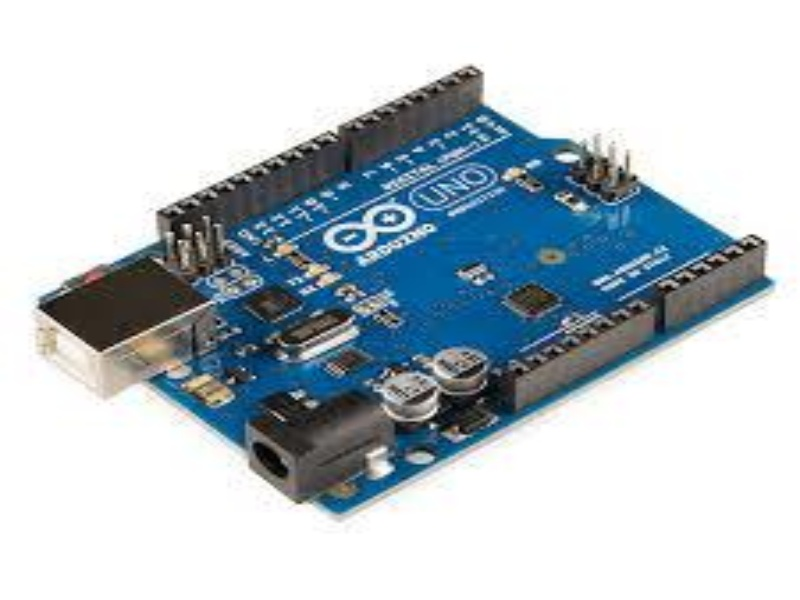uno: (57, 77, 767, 493)
